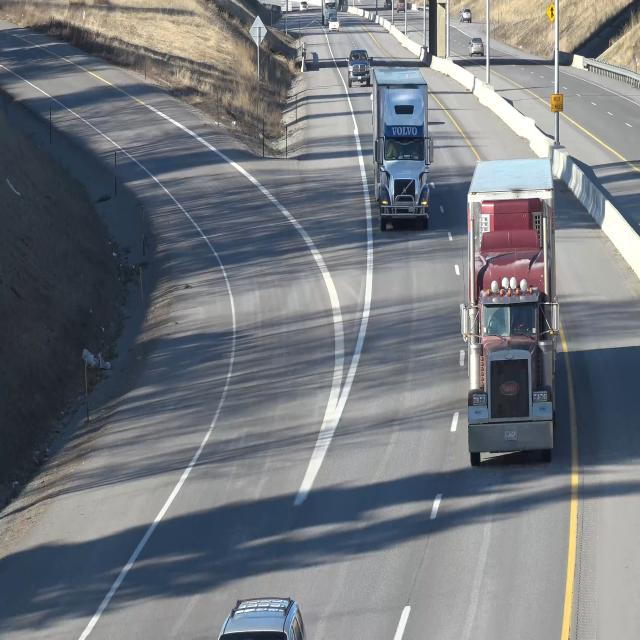Car: (462, 143, 560, 462), (370, 63, 436, 228), (348, 44, 372, 90), (468, 35, 486, 60)
